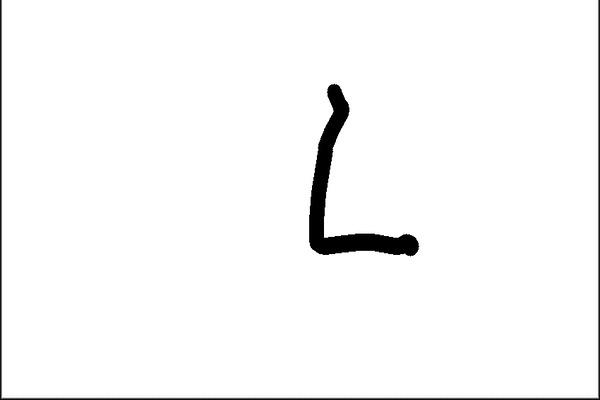L: (298, 76, 426, 268)
